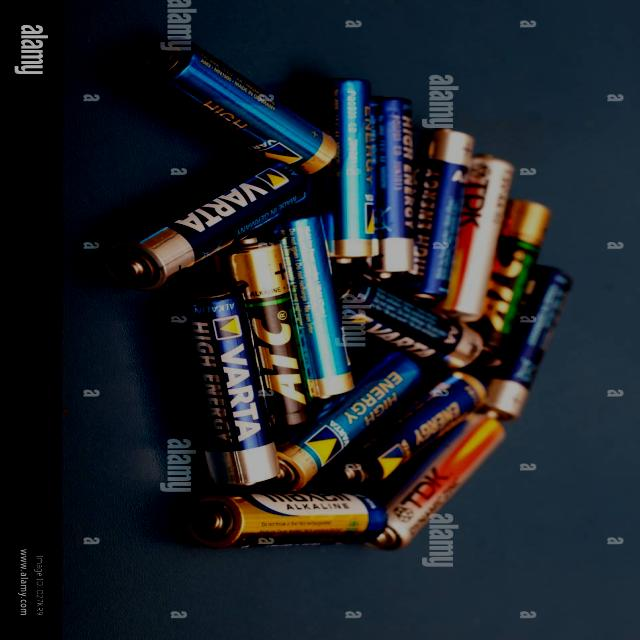AA: (124, 36, 347, 184), (96, 153, 310, 295), (164, 280, 285, 490), (257, 343, 423, 496), (208, 234, 321, 436), (319, 368, 489, 494), (331, 266, 486, 374), (293, 73, 379, 267), (180, 491, 391, 552)
